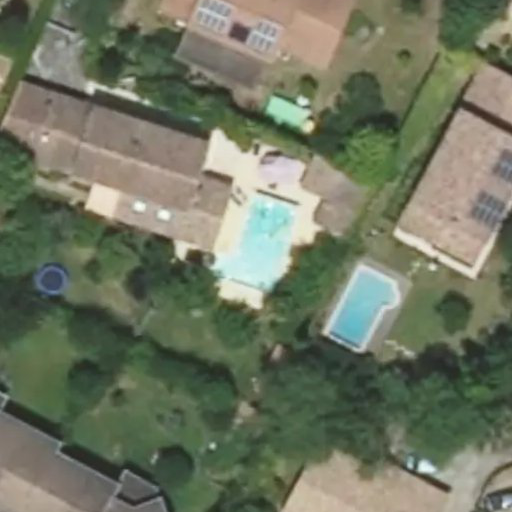pool: (218, 189, 298, 293), (324, 265, 400, 351), (266, 95, 311, 131), (32, 263, 69, 297)
